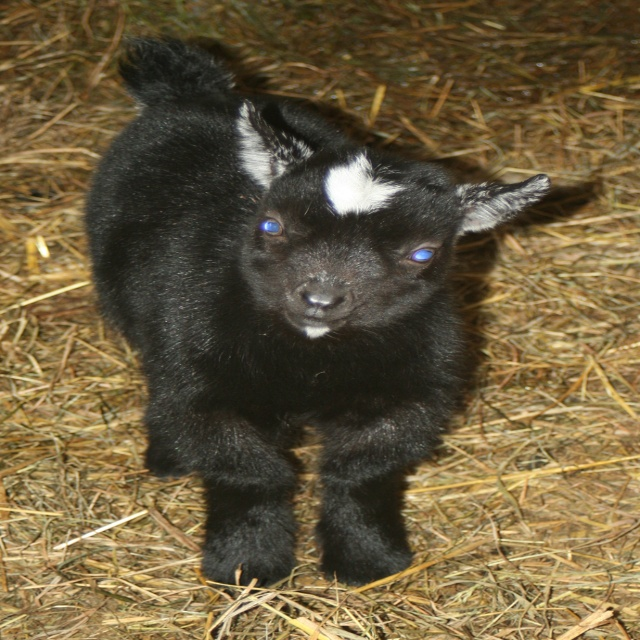Goat: (83, 36, 548, 591)
